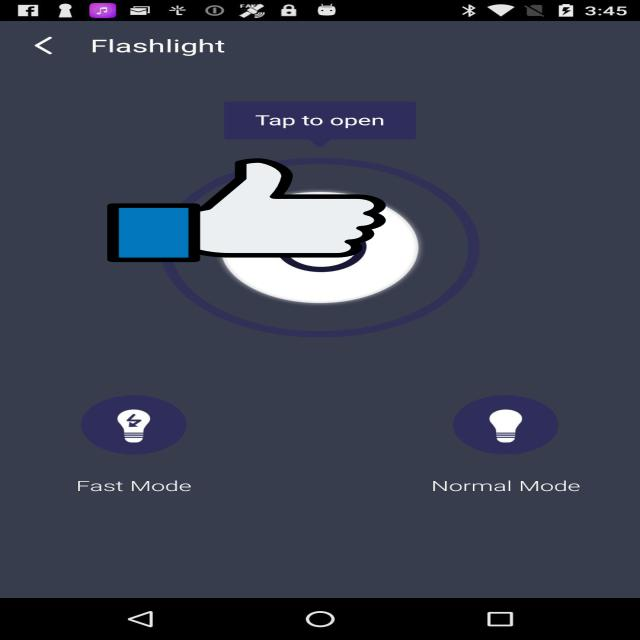privacy zuckering: (107, 156, 386, 264)
